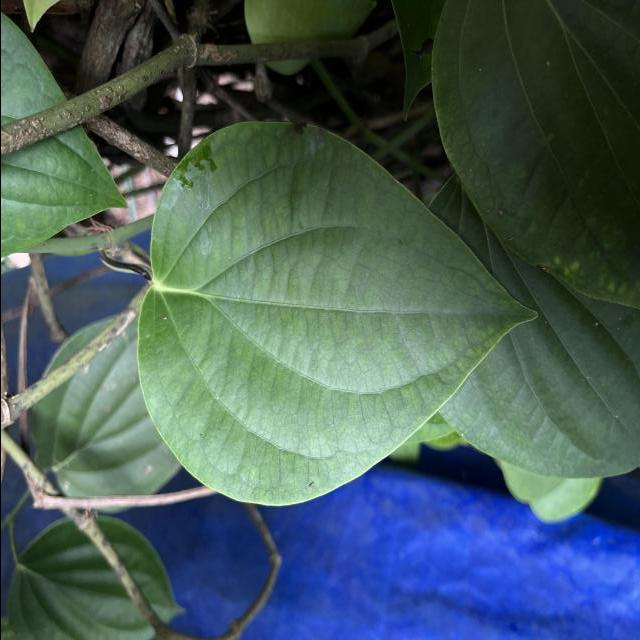Piper nigrum: (133, 113, 543, 513)
